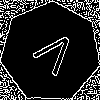V: (25, 27, 80, 84)
